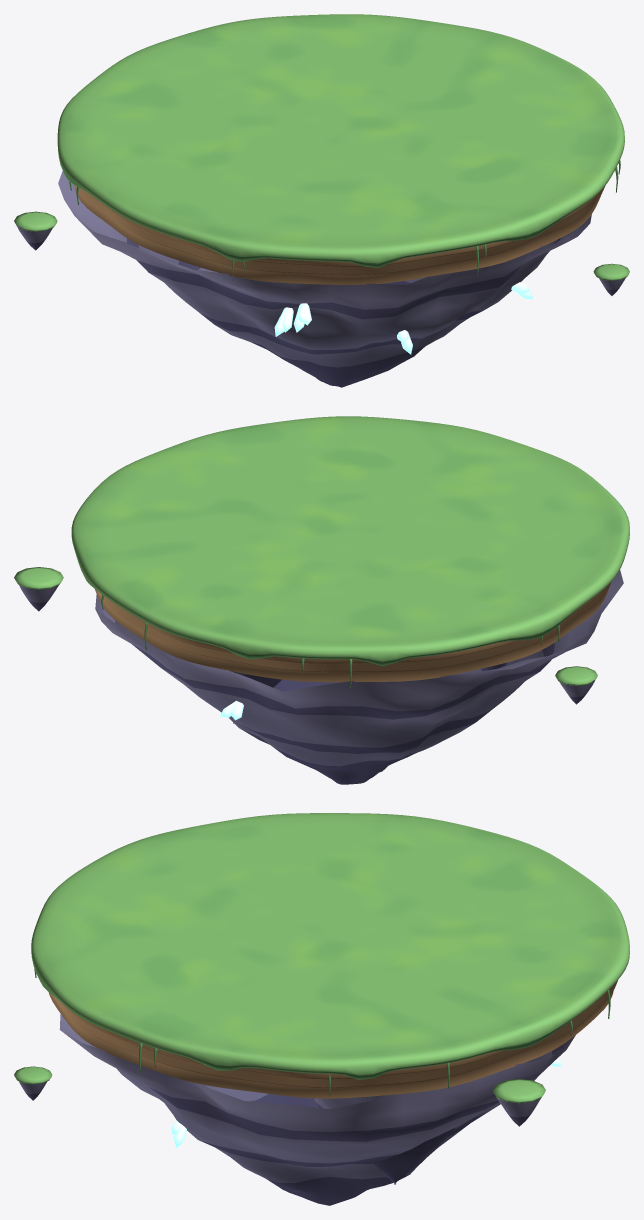
The model's file is island.glb.
The picture shows the model from 3 angles, top to bottom: view 1: azimuth 30°, elevation 25°; view 2: azimuth 150°, elevation 25°; view 3: azimuth 270°, elevation 25°; orthographic projection. The views are drawn at different scales.
Visible parts, largest first — view 1: island:mesh; view 2: island:mesh; view 3: island:mesh.
Boxes of the visible parts, left/top/right/bottom form: island:mesh: left=14, top=14, right=629, bottom=387; island:mesh: left=14, top=416, right=629, bottom=784; island:mesh: left=14, top=813, right=629, bottom=1205.
Size of the model in its own units: 2.22 by 1 by 2.07.
